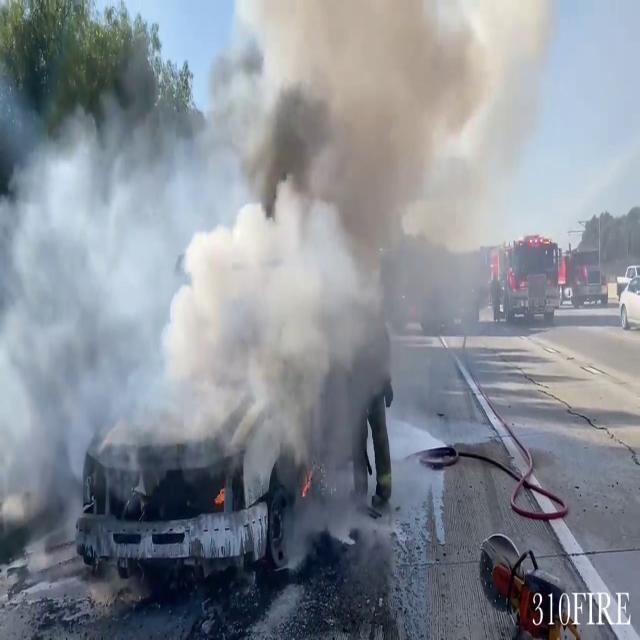Smoke: (0, 0, 584, 525)
